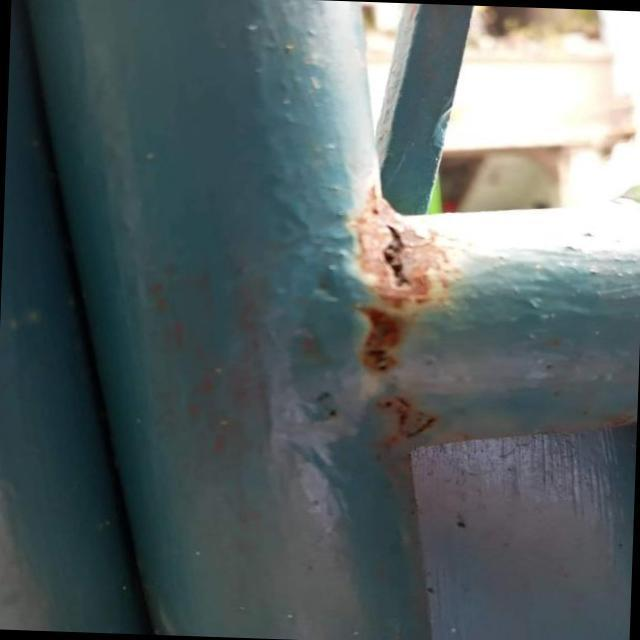defect: (378, 221, 421, 295)
